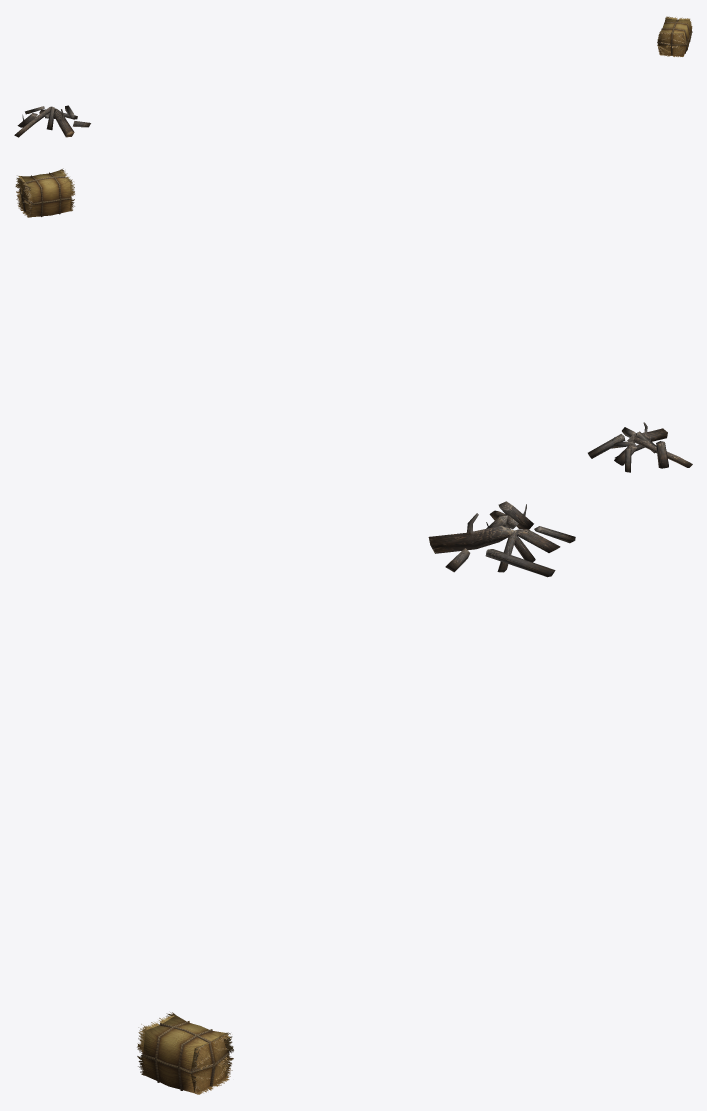
The model's file is yanshi14_wujian1_1.fbx.
The picture shows the model from 3 angles, top to bottom: view 1: azimuth 30°, elevation 25°; view 2: azimuth 150°, elevation 25°; view 3: azimuth 270°, elevation 25°; orthographic projection. The views are drawn at different scales.
Parts seen in each view (by area): view 1: yanshi14_wujian1_1; view 2: yanshi14_wujian1_1; view 3: yanshi14_wujian1_1.
Part boxes in pixels (x1,y1,x2,y2): yanshi14_wujian1_1: (14, 16, 692, 137); yanshi14_wujian1_1: (15, 168, 692, 472); yanshi14_wujian1_1: (137, 501, 575, 1094).
Bounding box in the file's own units: 3159 × 148 × 1006.
